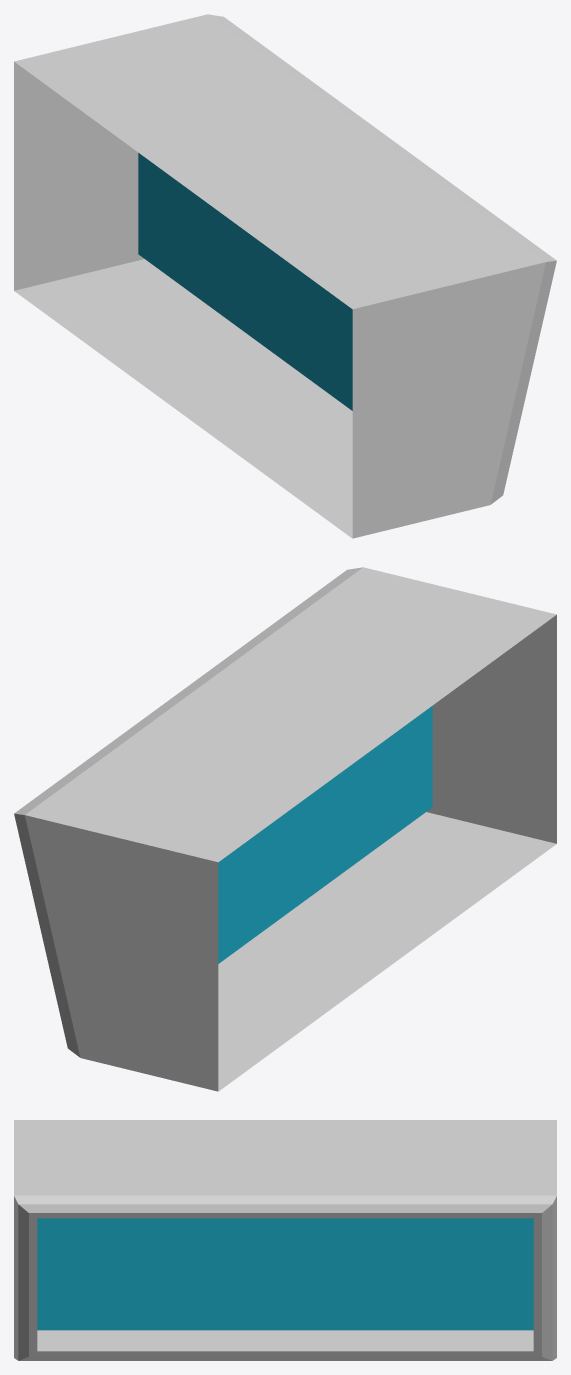
The model's file is breaker_numb_display.fbx.
3 views of the same model, one above another, from view 1: azimuth 30°, elevation 25°; view 2: azimuth 150°, elevation 25°; view 3: azimuth 270°, elevation 25° (orthographic). The views are drawn at different scales.
Parts seen in each view (by area): view 1: breaker display; view 2: breaker display; view 3: breaker display.
Boxes of the visible parts, x1,y1,x2,y2 form: breaker display: [14, 14, 556, 538]; breaker display: [14, 567, 556, 1091]; breaker display: [14, 1120, 556, 1360].
Size of the model in its own units: 13.13 by 13.64 by 36.49.
